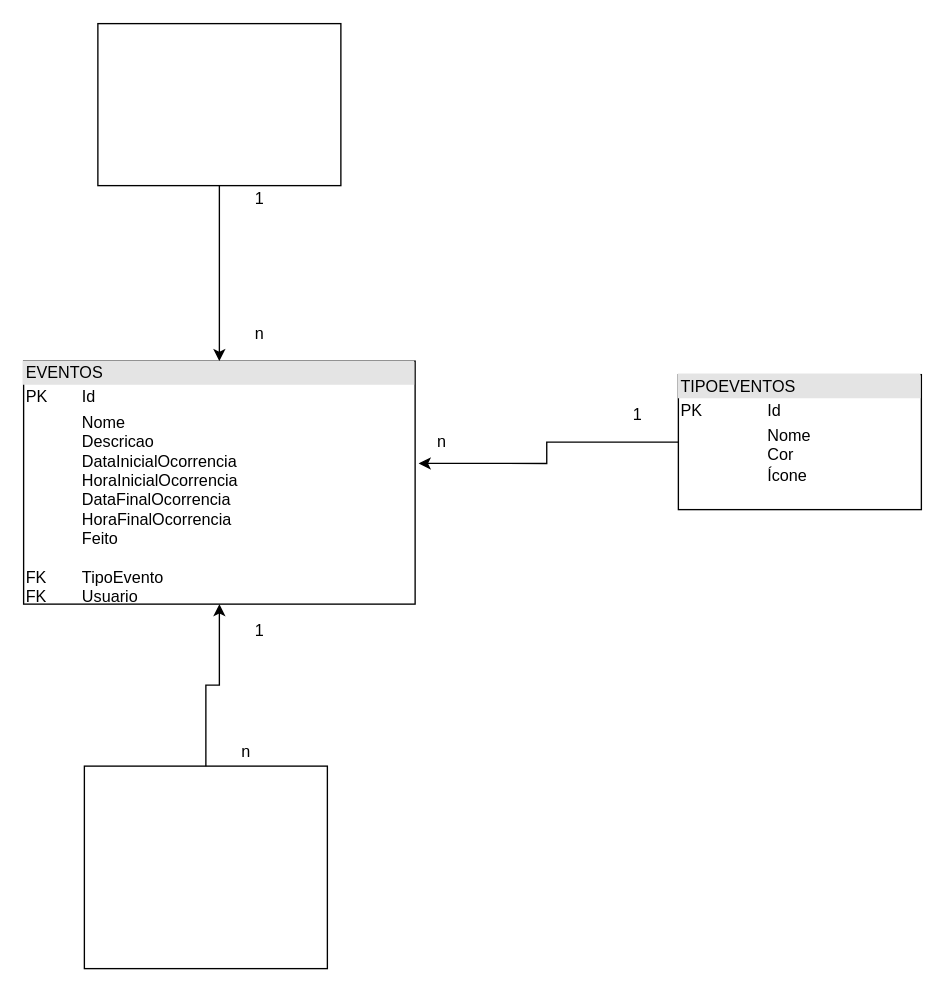
The diagram is 945 pixels wide and 992 high, and some of its shapes have lost their labels. Each missing label, with the centre of its shape:
"ALERTAS PK ID FK DataOcorrencia Evento" goes at (205,867).
"USUARIOS PK Id Nome Email Senha Telefone EnvioEmail EnvioTelefone" goes at (219,104).
